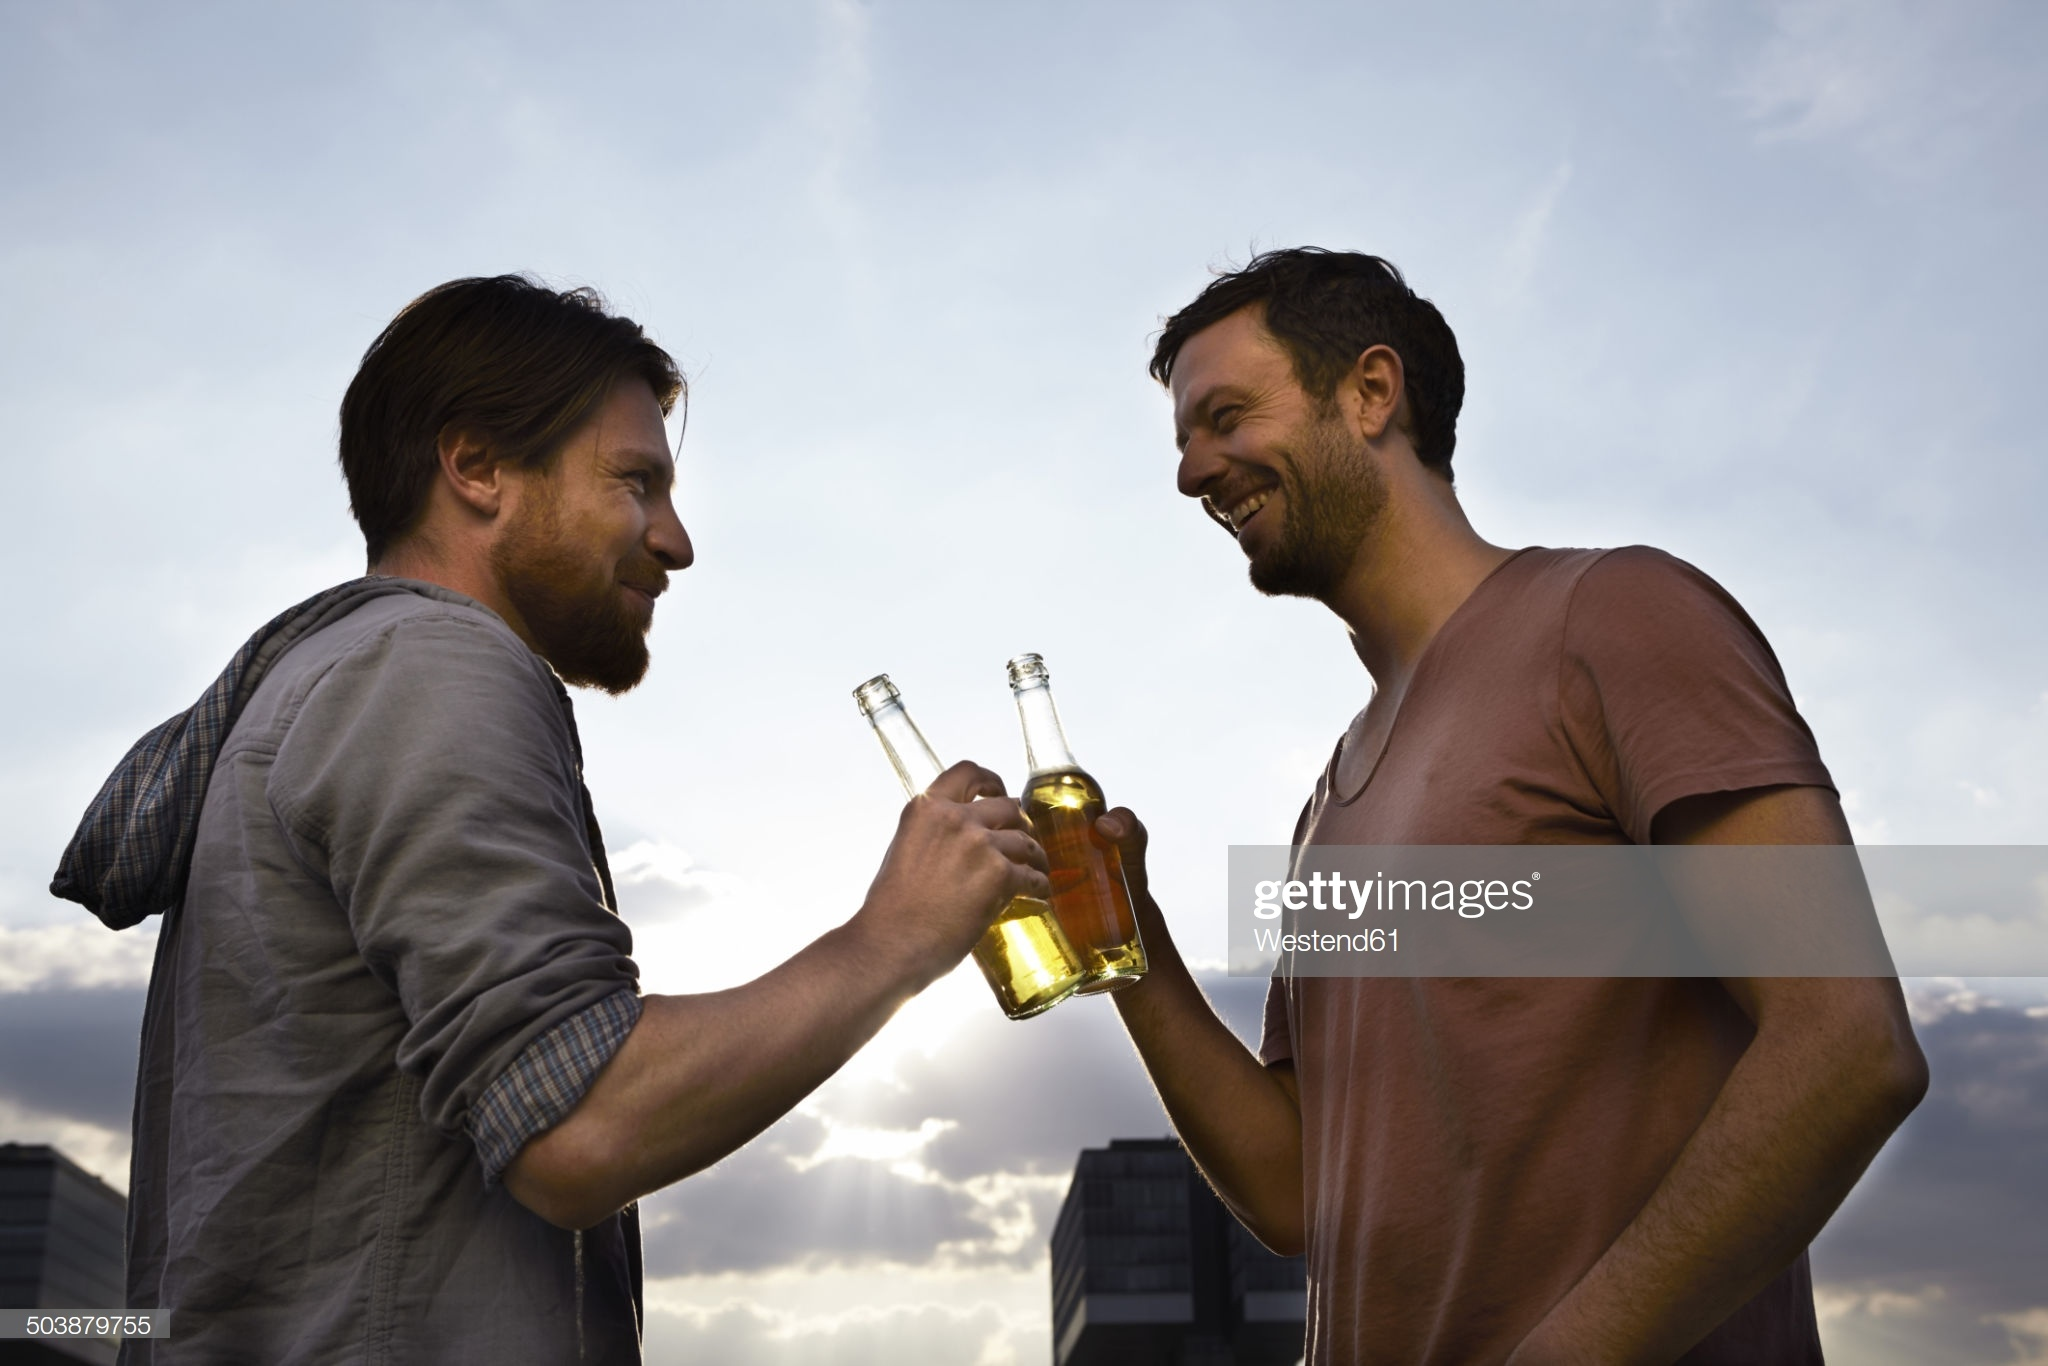beerBottle: (843, 672, 1071, 1021), (1003, 656, 1157, 1000)
